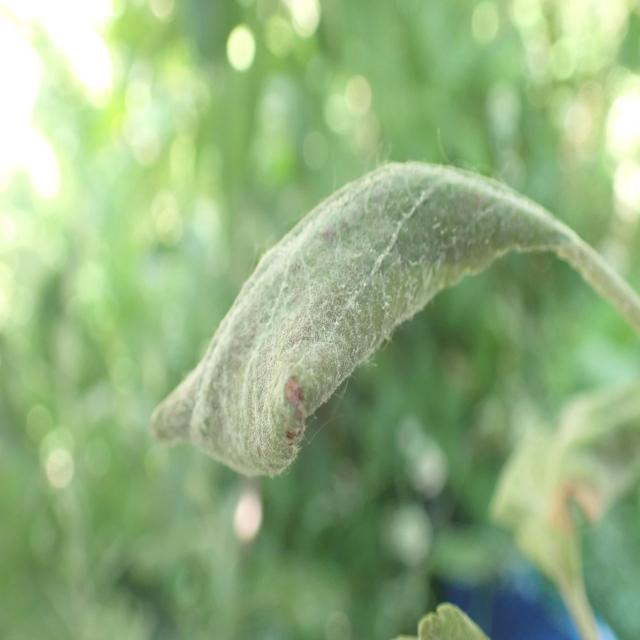Powdery_mildew: (146, 148, 566, 492)
